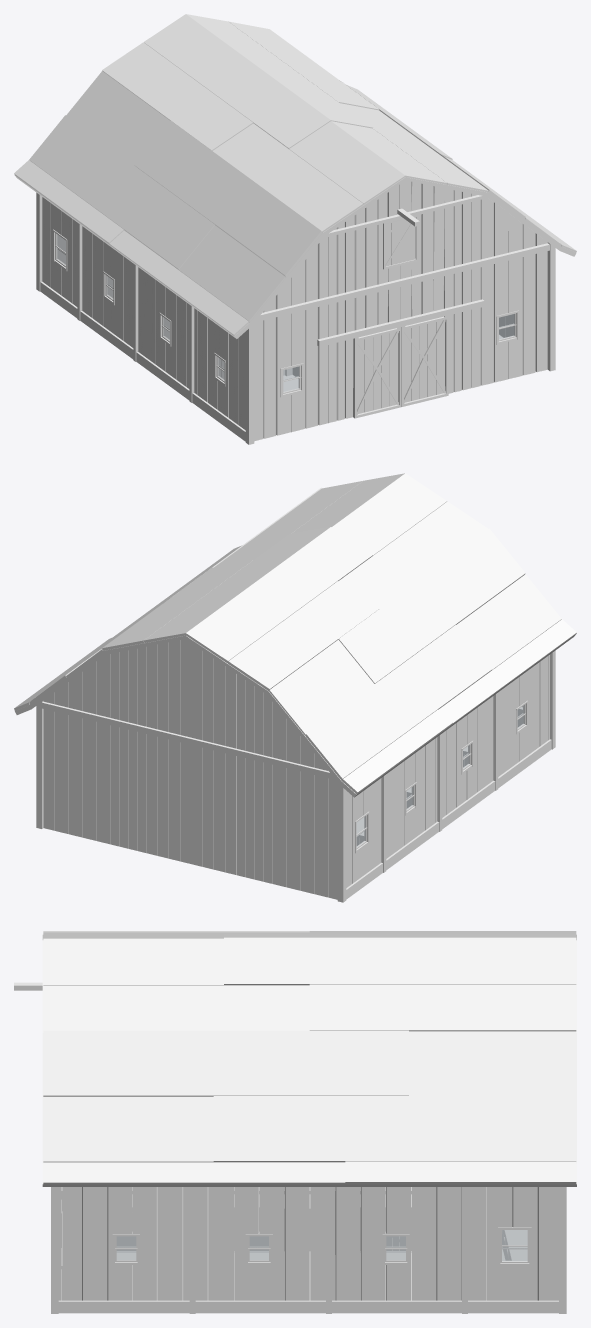
File: Bld_Barn_01.glb
The picture shows the model from 3 angles, top to bottom: view 1: azimuth 30°, elevation 25°; view 2: azimuth 150°, elevation 25°; view 3: azimuth 270°, elevation 25°; orthographic projection. The views are drawn at different scales.
Visible parts, largest first — view 1: Bld_Barn_01, Bld_Barn_Slide Door_Left_01, Bld_Barn_Slide Door_Right_01, Bld_Barn_Door_Upper_01, (_ignore)_Bld_Barn_Windows_01; view 2: Bld_Barn_01, (_ignore)_Bld_Barn_Windows_01; view 3: Bld_Barn_01, (_ignore)_Bld_Barn_Windows_01.
Boxes of the visible parts, x1,y1,x2,y2 form: Bld_Barn_01: [14, 14, 576, 444]; Bld_Barn_Slide Door_Left_01: [353, 327, 401, 418]; Bld_Barn_Slide Door_Right_01: [401, 315, 448, 406]; Bld_Barn_Door_Upper_01: [383, 215, 417, 269]; (_ignore)_Bld_Barn_Windows_01: [56, 234, 514, 391]; Bld_Barn_01: [14, 473, 576, 902]; (_ignore)_Bld_Barn_Windows_01: [357, 705, 524, 846]; Bld_Barn_01: [14, 931, 576, 1313]; (_ignore)_Bld_Barn_Windows_01: [117, 1230, 527, 1261].
Bounding box in the file's own units: 12.54 × 8.21 × 14.65.
2 materials, 1 textured.
